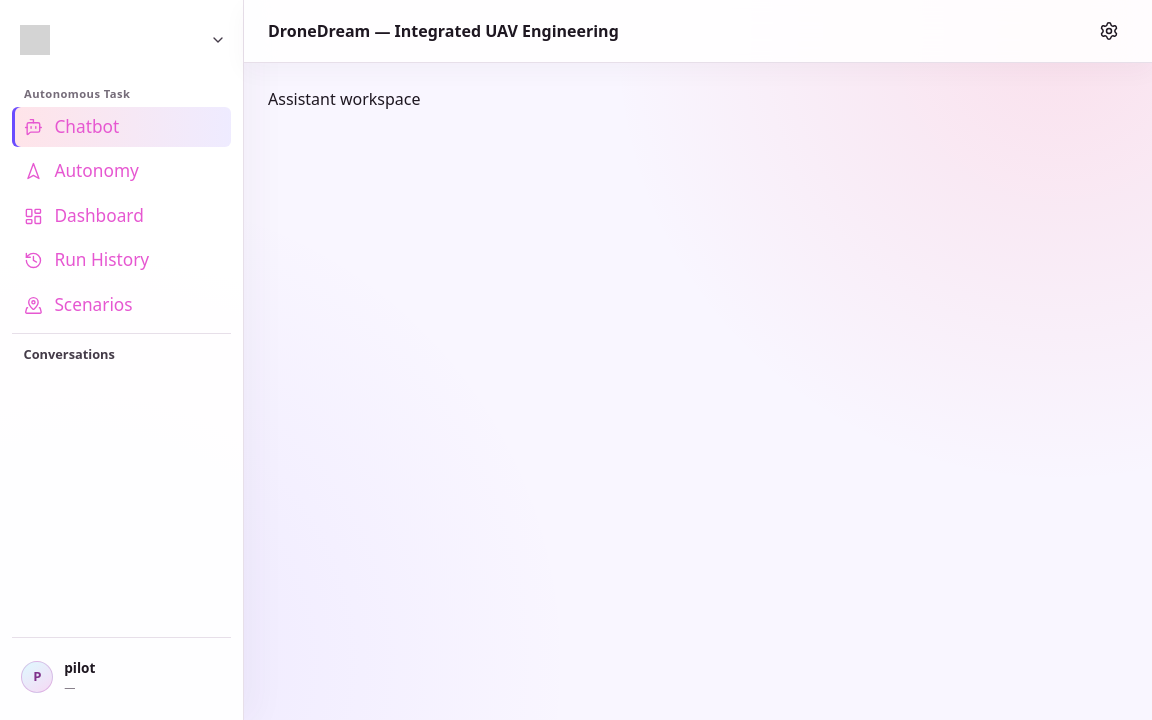
Scenario: workspace profile photo editor › explains that an insecure HTTP origin cannot request the camera
Step 1. Click the button with aria-label "Account" → (120, 677), box [12, 650, 227, 704]
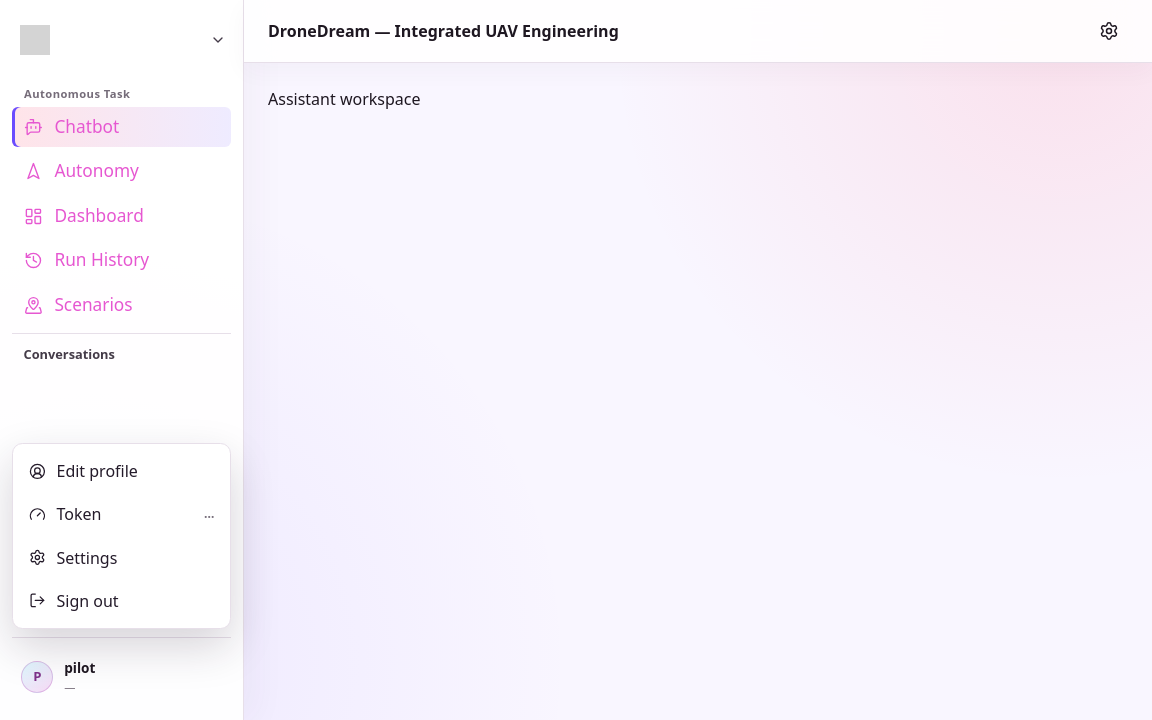
Step 2. Click the menu item "Edit profile" → (122, 471), box [19, 450, 224, 493]
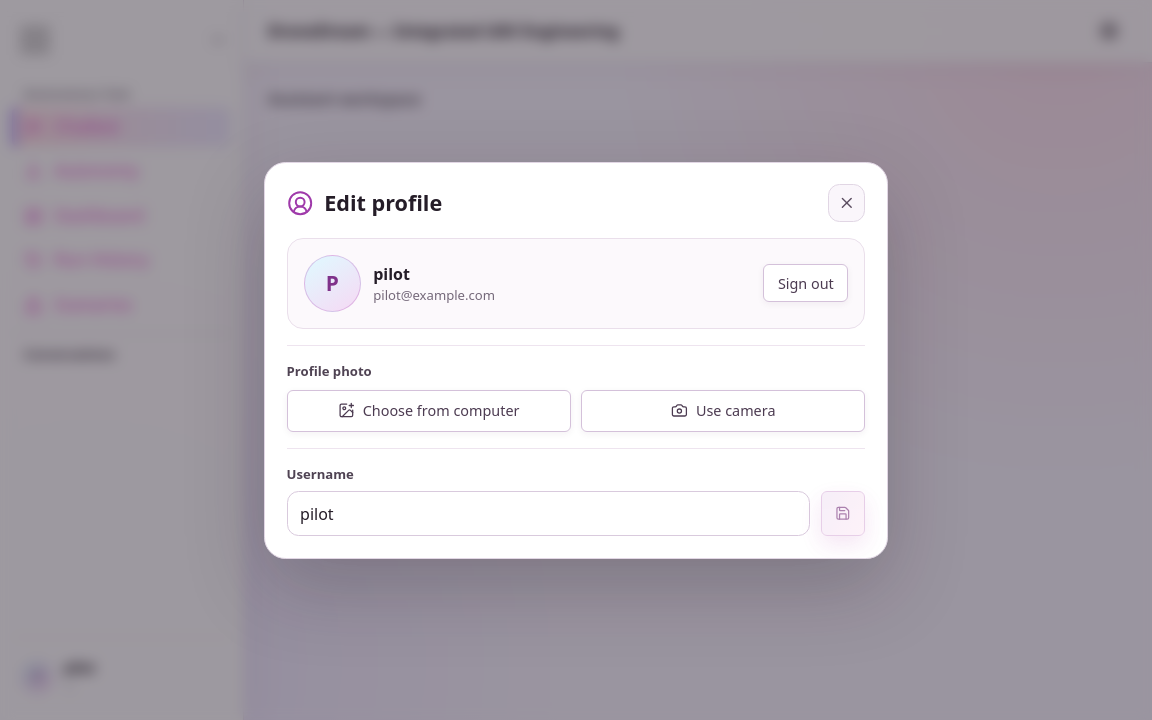
Step 3. Click the button "Use camera" → (723, 411), box [581, 390, 865, 432]
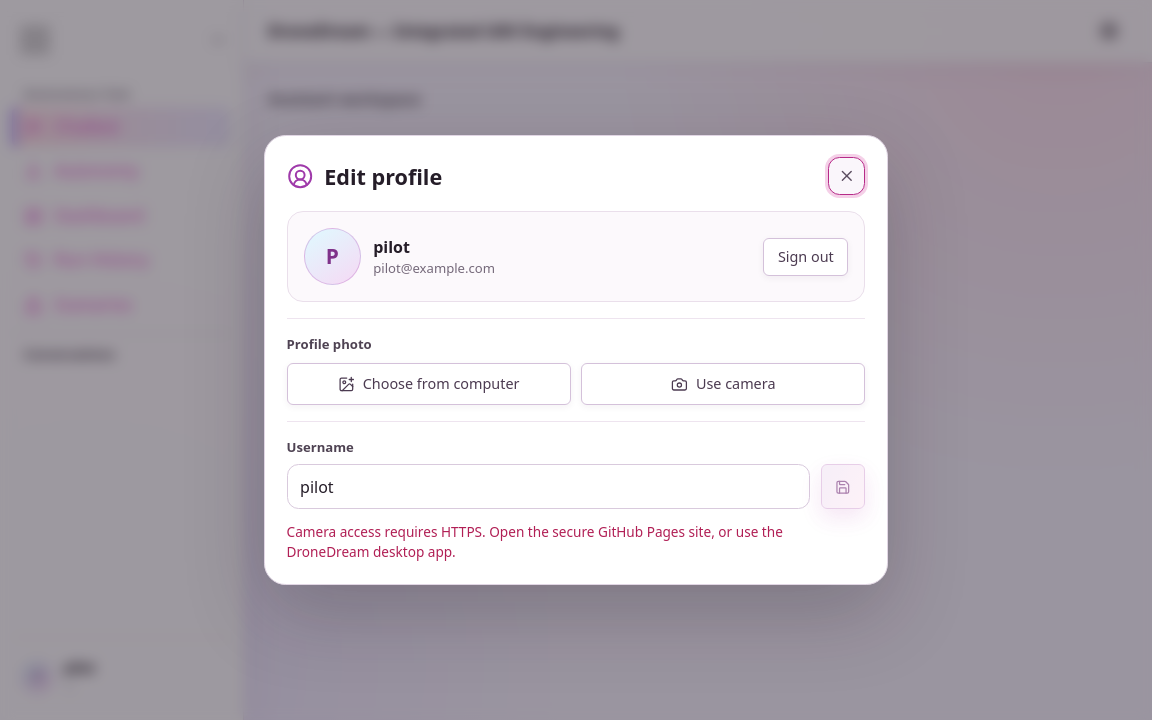
Result: the message shows "Camera access requires HTTPS." at [287, 522, 783, 561]
